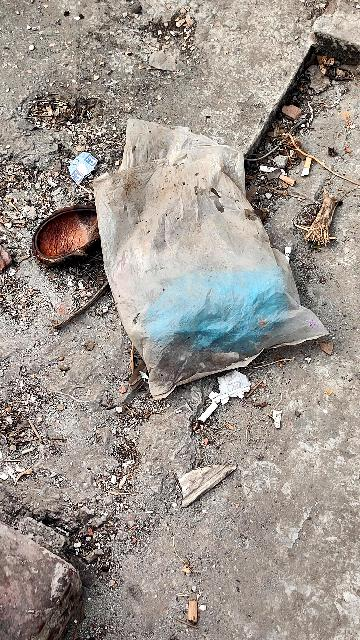polythene: (67, 109, 327, 385)
